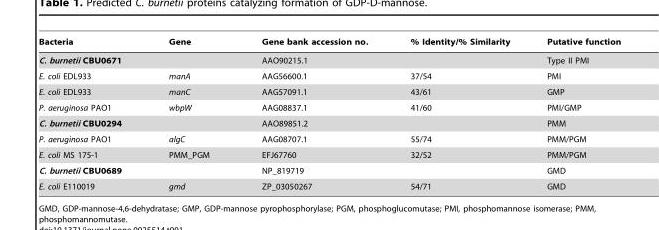table: (37, 37, 620, 190)
table column: (234, 37, 388, 190), (388, 37, 527, 190), (37, 37, 144, 190), (527, 37, 620, 190), (144, 37, 234, 190)
table column header: (37, 37, 620, 50)
table row: (37, 50, 620, 68), (37, 83, 620, 99), (37, 99, 620, 115), (37, 115, 620, 131), (37, 146, 620, 162), (37, 162, 620, 178), (37, 68, 620, 83), (37, 131, 620, 146), (37, 37, 620, 50), (37, 178, 620, 190)
